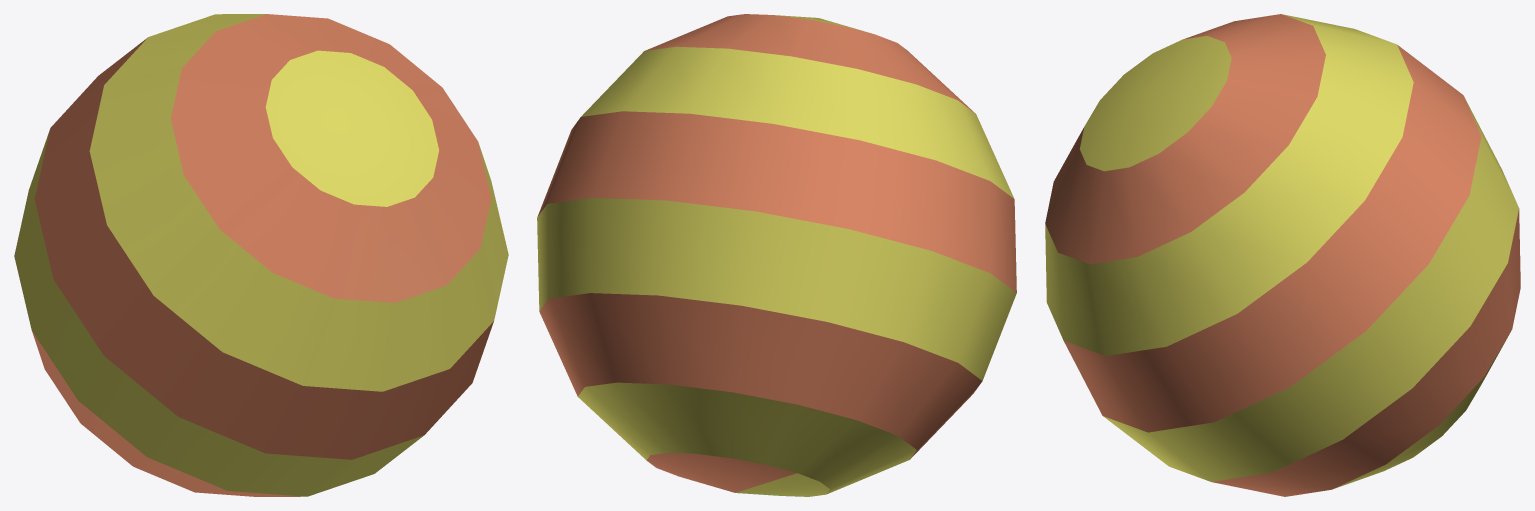
Rendered from ball-yellow.fbx.
The picture shows the model from 3 angles, left to right: view 1: azimuth 30°, elevation 25°; view 2: azimuth 150°, elevation 25°; view 3: azimuth 270°, elevation 25°; orthographic projection. The views are drawn at different scales.
Visible parts, largest first — view 1: ball-yellow; view 2: ball-yellow; view 3: ball-yellow.
Boxes of the visible parts, x1,y1,x2,y2 form: ball-yellow: (14, 14, 508, 496); ball-yellow: (537, 14, 1016, 496); ball-yellow: (1045, 14, 1520, 496).
Size of the model in its own units: 1.98 by 1.96 by 1.97.
